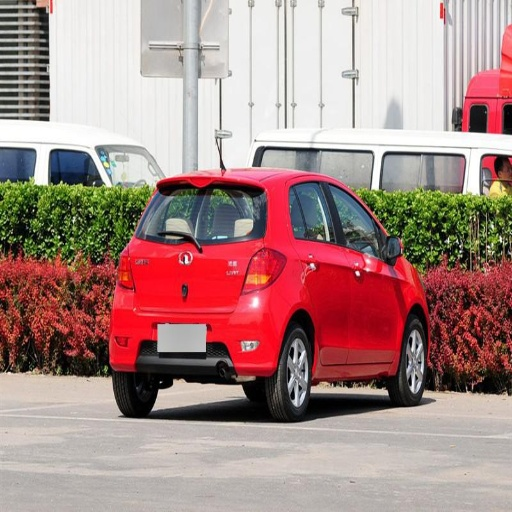back_bumper: (113, 288, 286, 374)
back_right_door: (289, 179, 355, 368)
trunk: (120, 244, 248, 323)
